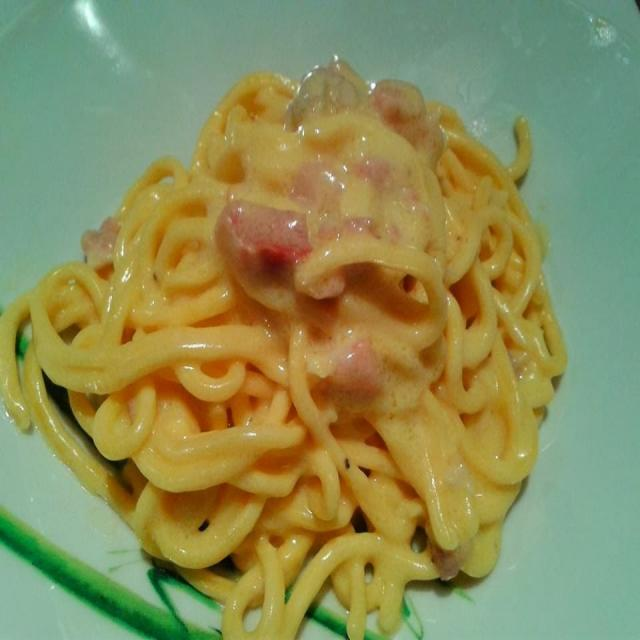Pasta with carbonara sauce: (44, 50, 576, 593)
